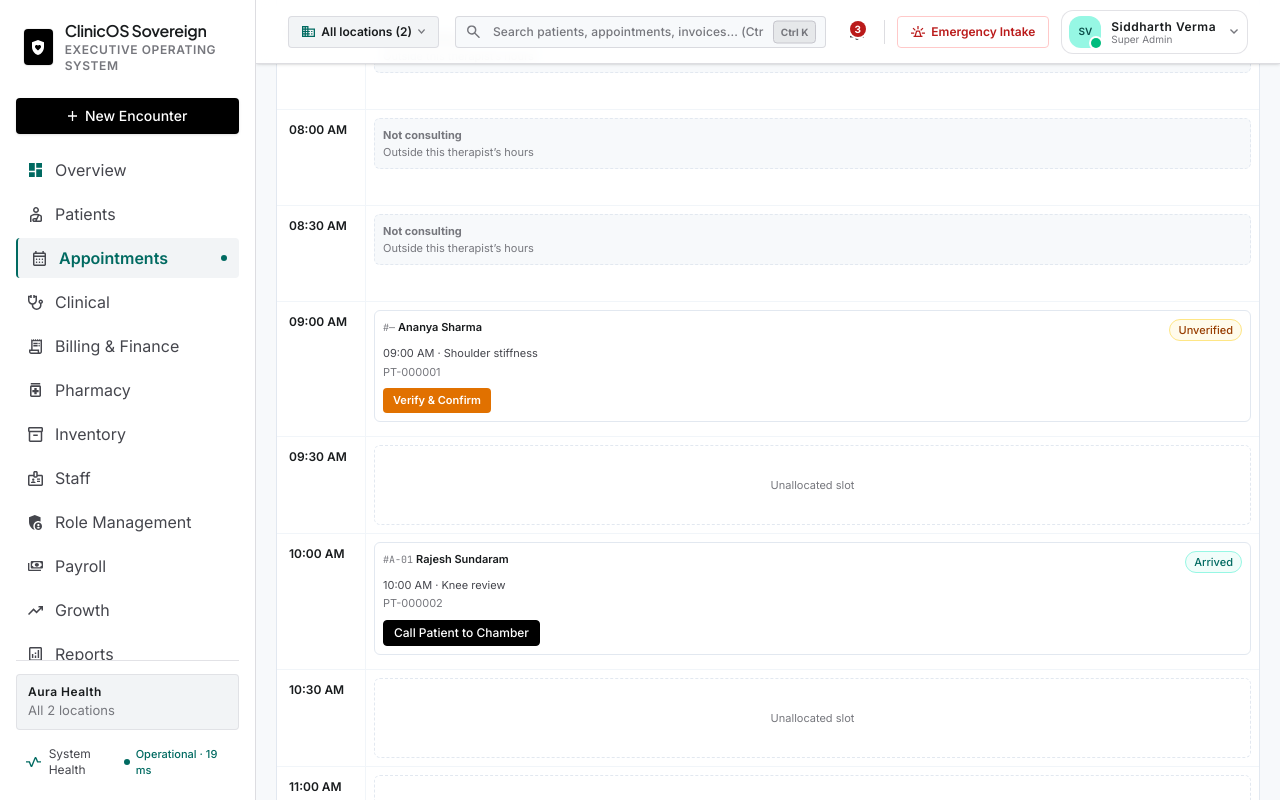
Test case: OPD schedule › confirms a pending booking through the API
The width and height of the screenshot is (1280, 800).
(page scrolled)
Click the button "Verify & Confirm": x=437, y=401 [383, 388, 491, 413]
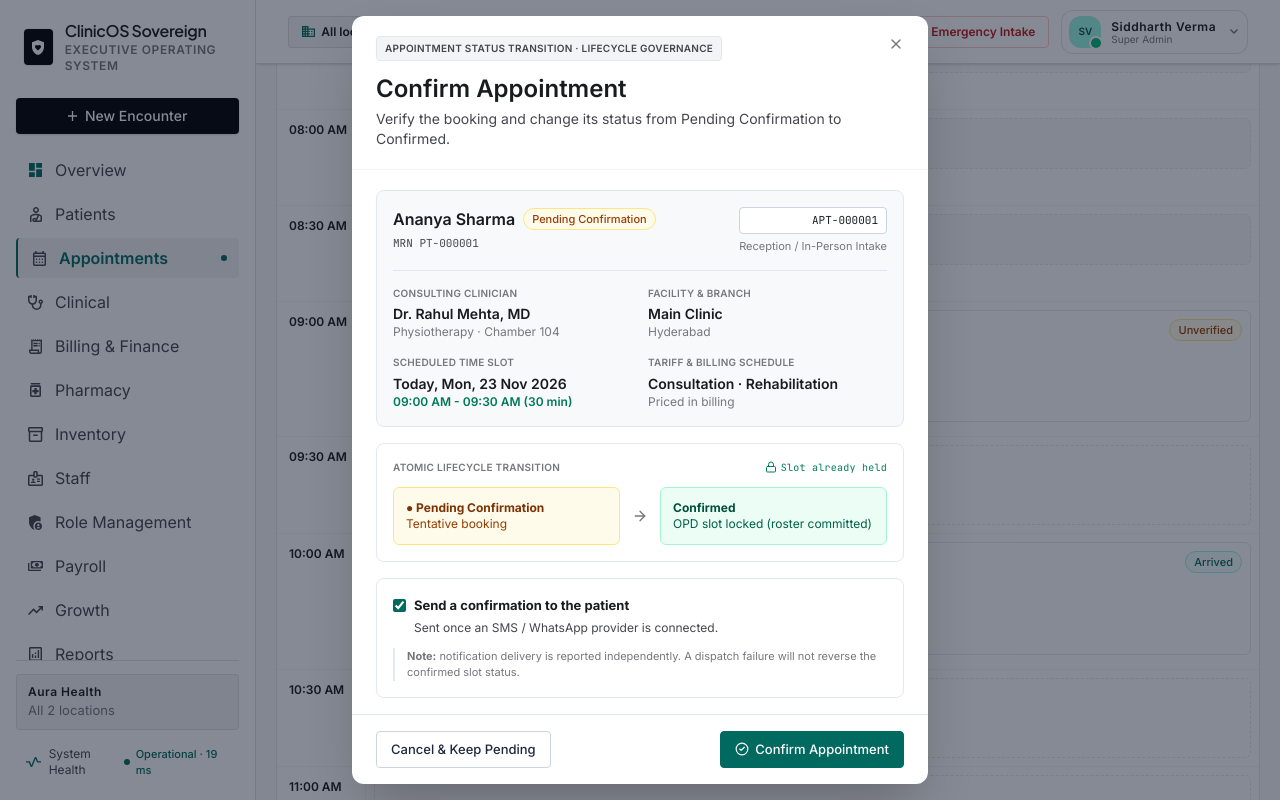
Click the button "Confirm Appointment": x=812, y=749 [720, 730, 904, 768]
(page scrolled)
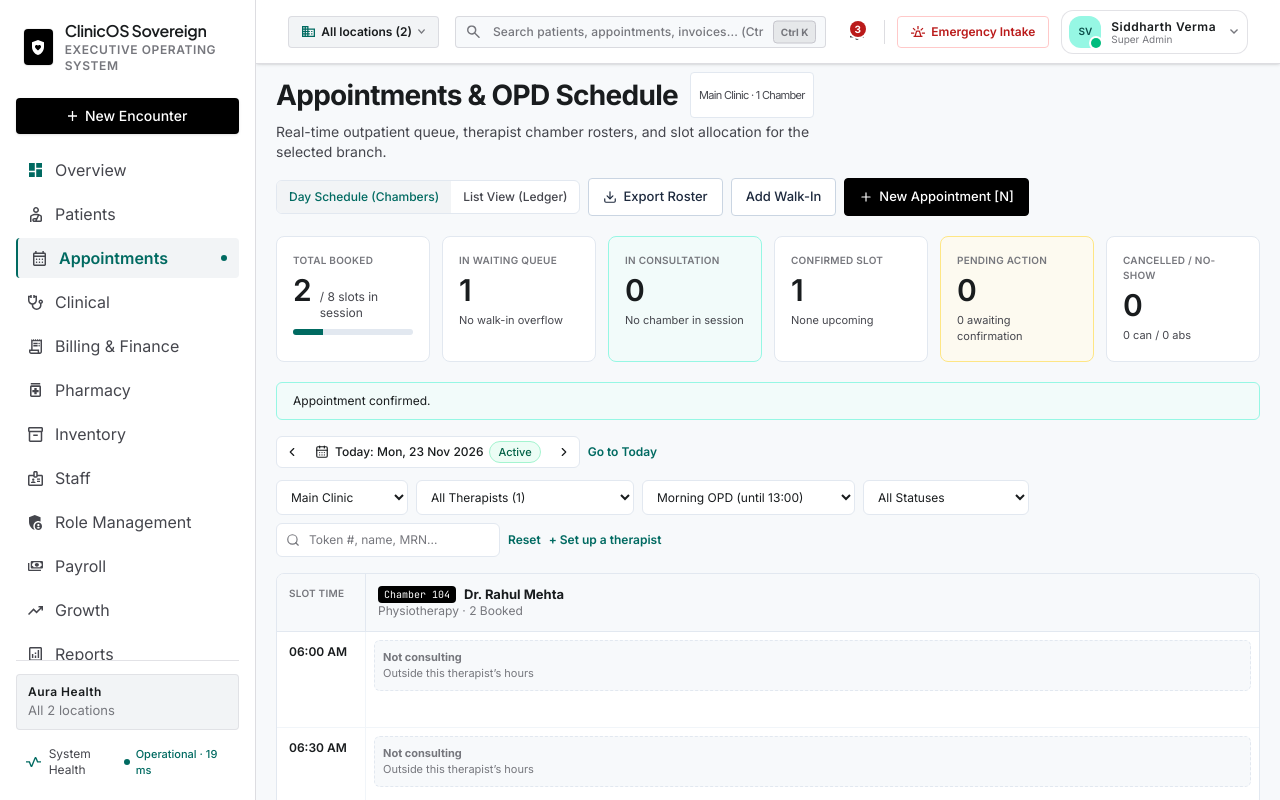
Now the text "Appointment confirmed." is shown, box [276, 382, 1260, 420]
